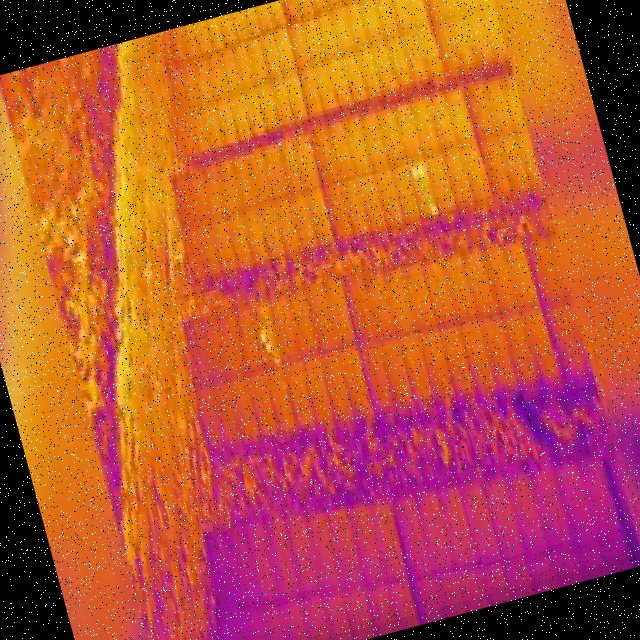Hotspot: (428, 196, 443, 220), (413, 160, 427, 182), (256, 326, 270, 346), (406, 164, 420, 181), (262, 340, 274, 358), (272, 354, 284, 366)
